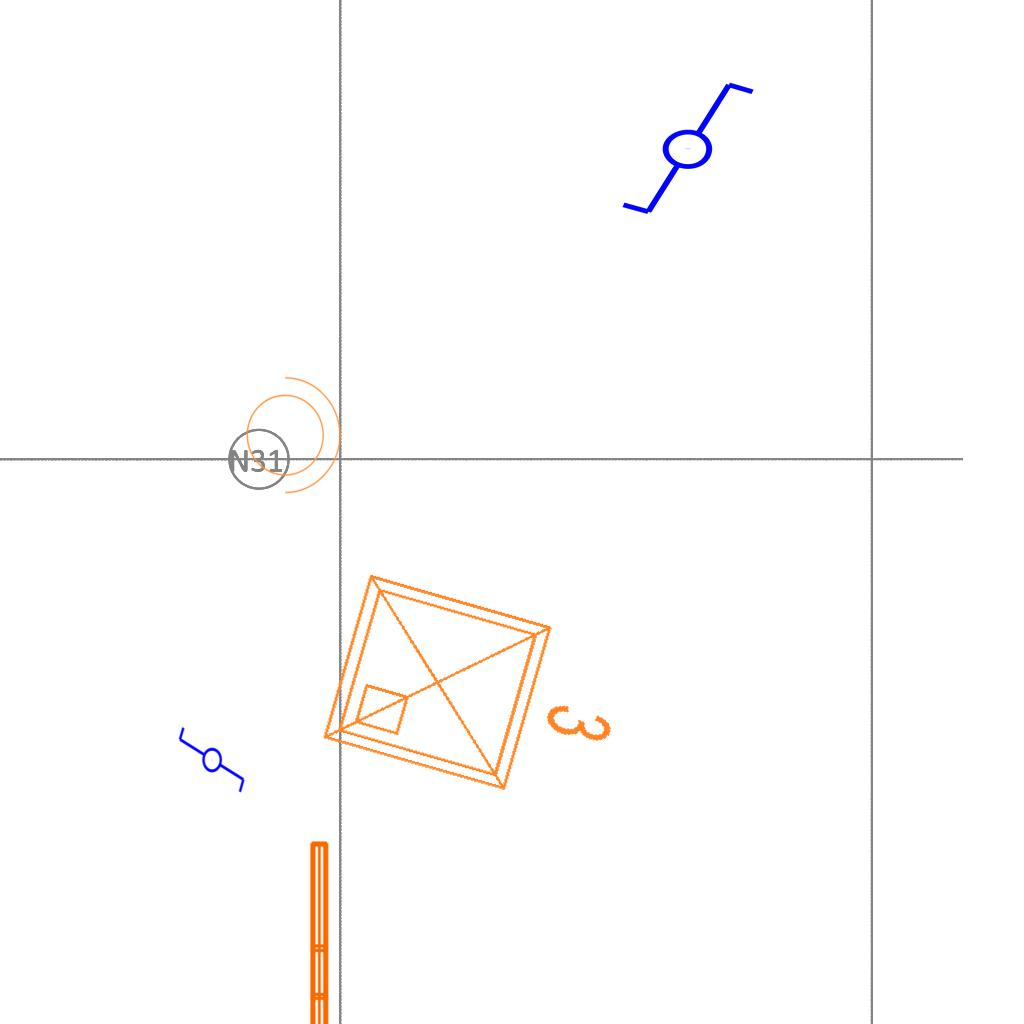Ambulanz_Pendelleuchte_LED: (304, 836, 360, 1024)
Einbaudownlights_LED_Konferenzraeume: (305, 548, 651, 832)
Scheinwerfer_fuer_Alarmbeleuchtung: (234, 366, 346, 498)
Wechselschalter: (601, 75, 758, 219), (175, 725, 247, 803)
